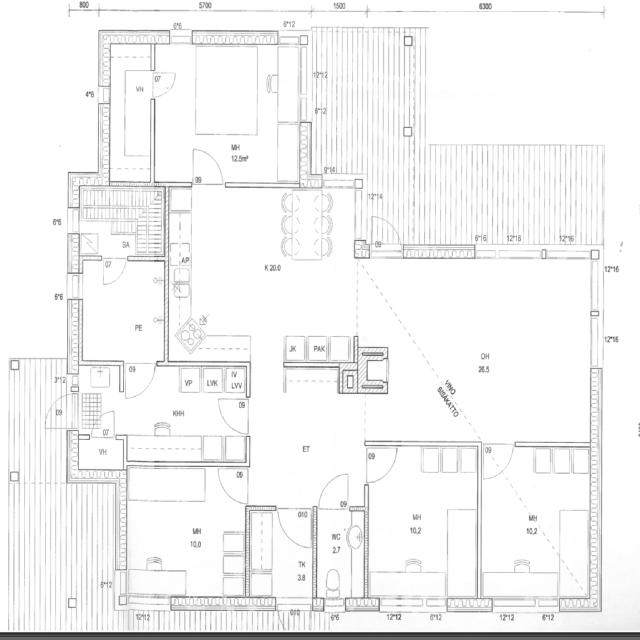door: (314, 493, 367, 604), (276, 506, 314, 550), (189, 146, 226, 188), (316, 470, 352, 512), (122, 360, 158, 402), (364, 445, 400, 486), (481, 440, 516, 482), (370, 214, 403, 258), (216, 396, 252, 436), (216, 465, 250, 506), (46, 393, 76, 429), (101, 255, 128, 287), (150, 69, 178, 99), (91, 409, 118, 438)
window: (474, 245, 546, 264), (585, 314, 607, 375), (586, 257, 606, 320), (65, 270, 84, 321), (542, 247, 596, 263), (320, 174, 362, 191), (167, 27, 195, 46)
zone: (414, 256, 603, 441), (179, 191, 360, 363), (151, 42, 299, 180), (479, 445, 594, 600), (366, 445, 480, 598), (124, 466, 246, 602), (248, 372, 361, 507), (119, 365, 247, 466), (76, 259, 168, 364), (108, 41, 154, 182), (248, 513, 316, 606), (79, 186, 166, 258), (315, 509, 367, 604), (74, 363, 124, 436), (69, 436, 127, 482)
